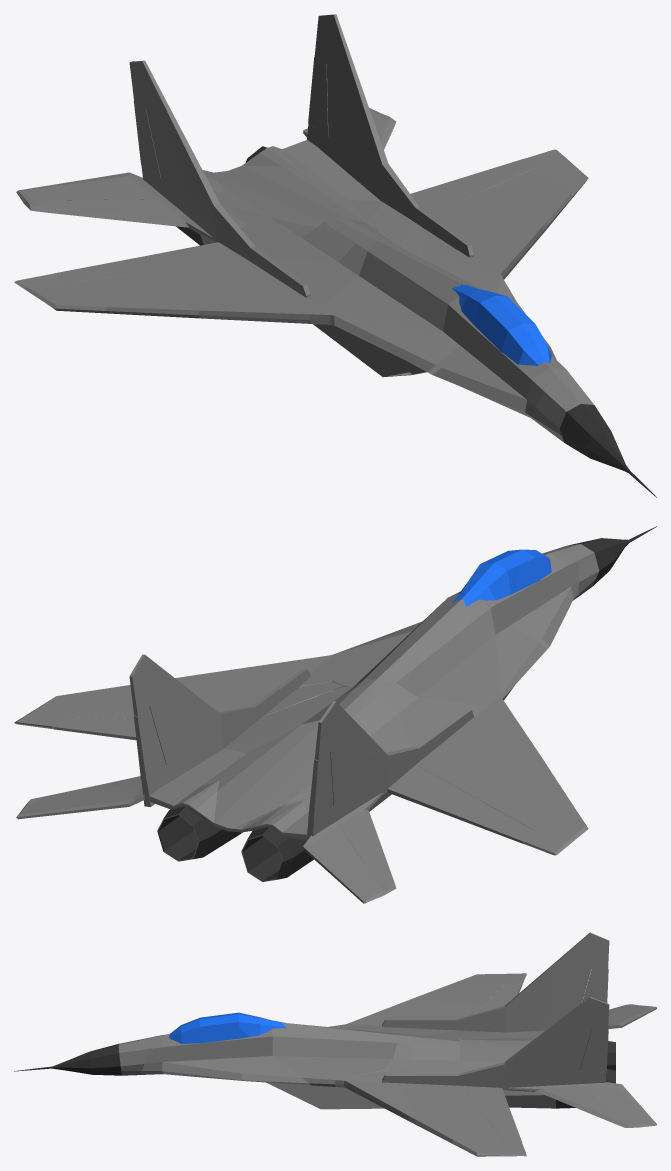
Rendered from mig29_7_fractured1.fbx.
The picture shows the model from 3 angles, top to bottom: view 1: azimuth 30°, elevation 25°; view 2: azimuth 150°, elevation 25°; view 3: azimuth 270°, elevation 25°; orthographic projection. The views are drawn at different scales.
Visible parts, largest first — view 1: Cylinder_shard.006, Cylinder_shard.004, Cylinder_shard.009, Cylinder_shard.012, Cylinder_shard.005, Cylinder_shard, Cylinder_shard.007, Cylinder_shard.010, Cylinder_shard.001, Cylinder_shard.002; view 2: Cylinder_shard.004, Cylinder_shard.006, Cylinder_shard.009, Cylinder_shard.012, Cylinder_shard.005, Cylinder_shard, Cylinder_shard.007, Cylinder_shard.003, Cylinder_shard.002, Cylinder_shard.010, Cylinder_shard.001; view 3: Cylinder_shard.004, Cylinder_shard.006, Cylinder_shard.009, Cylinder_shard, Cylinder_shard.005, Cylinder_shard.012, Cylinder_shard.007, Cylinder_shard.001, Cylinder_shard.003, Cylinder_shard.002, Cylinder_shard.010.
Boxes of the visible parts, bbox=[...] form: Cylinder_shard.006: bbox=[14, 126, 378, 355]; Cylinder_shard.004: bbox=[221, 14, 423, 256]; Cylinder_shard.009: bbox=[308, 240, 517, 377]; Cylinder_shard.012: bbox=[16, 60, 224, 245]; Cylinder_shard.005: bbox=[410, 149, 588, 245]; Cylinder_shard: bbox=[427, 301, 574, 422]; Cylinder_shard.007: bbox=[444, 221, 547, 279]; Cylinder_shard.010: bbox=[533, 395, 637, 480]; Cylinder_shard.001: bbox=[543, 377, 622, 456]; Cylinder_shard.002: bbox=[410, 195, 461, 257]; Cylinder_shard.004: bbox=[127, 654, 374, 861]; Cylinder_shard.006: bbox=[355, 679, 588, 855]; Cylinder_shard.009: bbox=[332, 558, 547, 706]; Cylinder_shard.012: bbox=[231, 701, 396, 903]; Cylinder_shard.005: bbox=[14, 676, 280, 740]; Cylinder_shard: bbox=[379, 549, 578, 648]; Cylinder_shard.007: bbox=[185, 651, 342, 686]; Cylinder_shard.003: bbox=[16, 784, 173, 858]; Cylinder_shard.002: bbox=[242, 675, 343, 716]; Cylinder_shard.010: bbox=[574, 536, 638, 599]; Cylinder_shard.001: bbox=[543, 538, 618, 564]; Cylinder_shard.004: bbox=[391, 996, 615, 1108]; Cylinder_shard.006: bbox=[357, 966, 551, 1040]; Cylinder_shard.009: bbox=[222, 1012, 400, 1109]; Cylinder_shard: bbox=[141, 1015, 337, 1109]; Cylinder_shard.005: bbox=[378, 1081, 572, 1156]; Cylinder_shard.012: bbox=[547, 932, 656, 1070]; Cylinder_shard.007: bbox=[335, 1070, 415, 1122]; Cylinder_shard.001: bbox=[65, 1038, 150, 1072]; Cylinder_shard.003: bbox=[588, 1083, 656, 1127]; Cylinder_shard.002: bbox=[385, 1063, 470, 1087]; Cylinder_shard.010: bbox=[40, 1061, 141, 1075].
Size of the model in its own units: 629 by 210 by 935.
